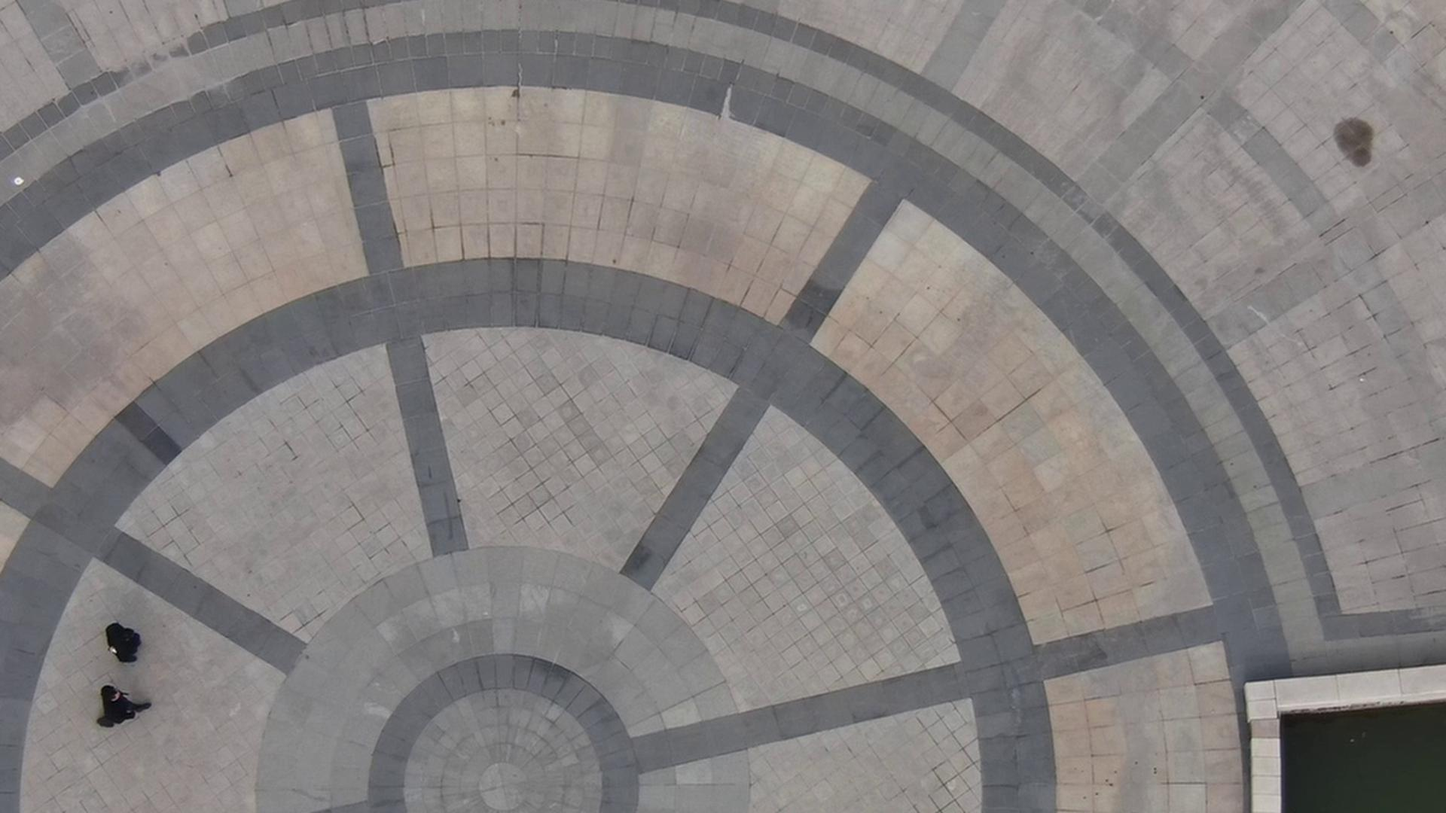human: (111, 677, 172, 724), (111, 604, 162, 660)
